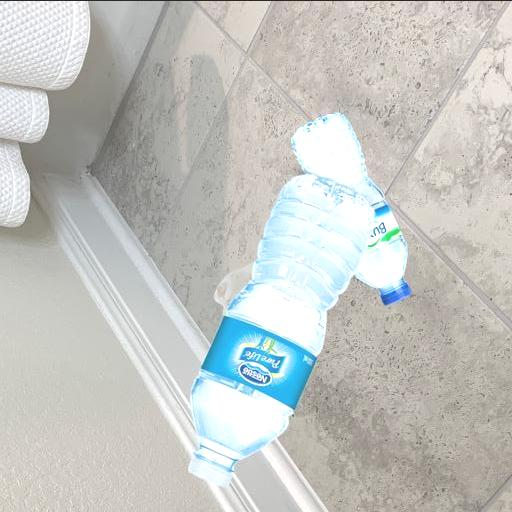bottle: (164, 166, 380, 491), (287, 108, 416, 313)
